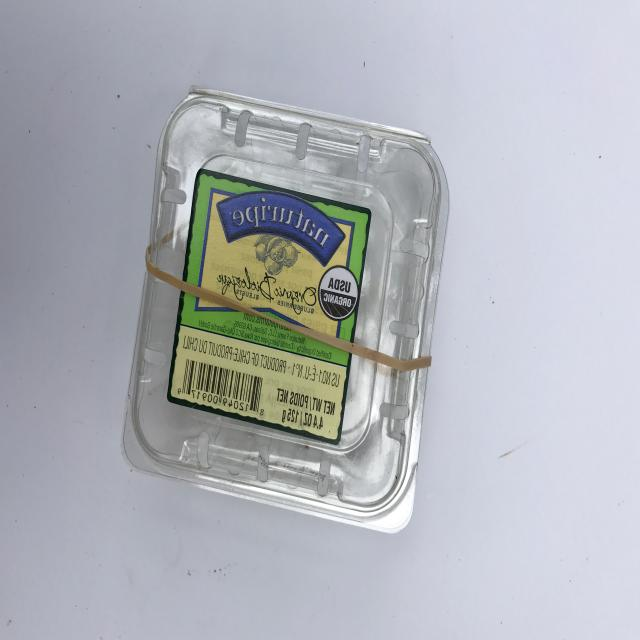plastic: (121, 86, 450, 534)
